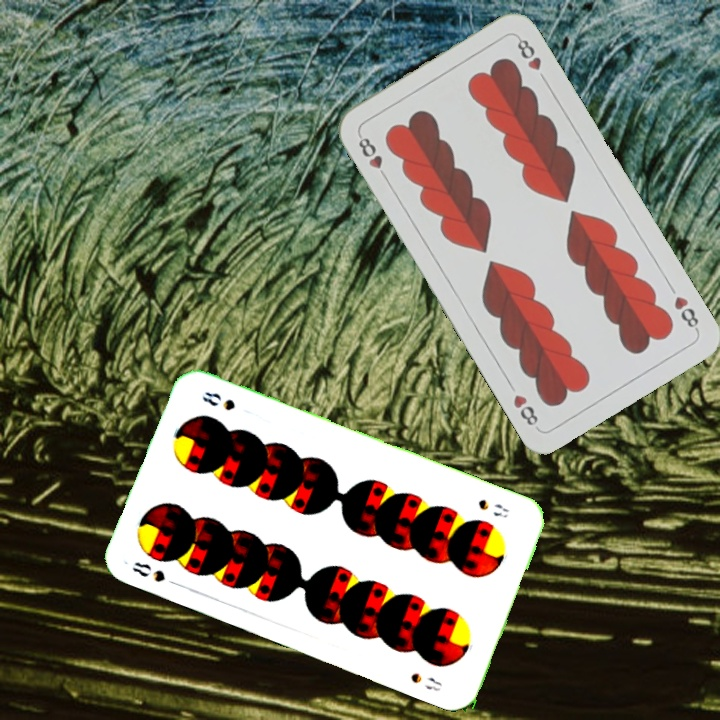H8: (354, 130, 391, 183), (670, 292, 702, 334)
S8: (128, 557, 183, 589), (474, 495, 511, 521)
